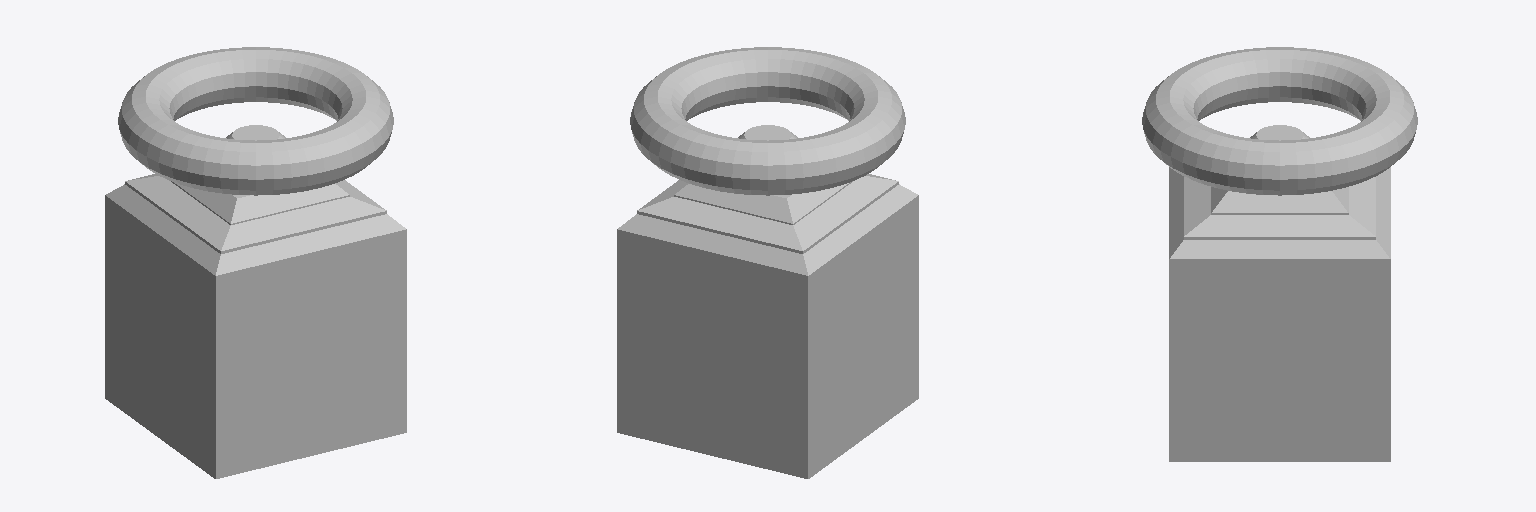
Rendered from ice_tower.obj.
3 renders of one model, left to right at view 1: azimuth 30°, elevation 25°; view 2: azimuth 150°, elevation 25°; view 3: azimuth 270°, elevation 25°, orthographic.
Parts seen in each view (by area): view 1: Cube; view 2: Cube; view 3: Cube.
Part boxes in pixels (x1,y1,x2,y2): Cube: (105,47,406,478); Cube: (617,47,918,478); Cube: (1142,47,1417,461).
Size of the model in its own units: 2.5 by 3.19 by 2.5.